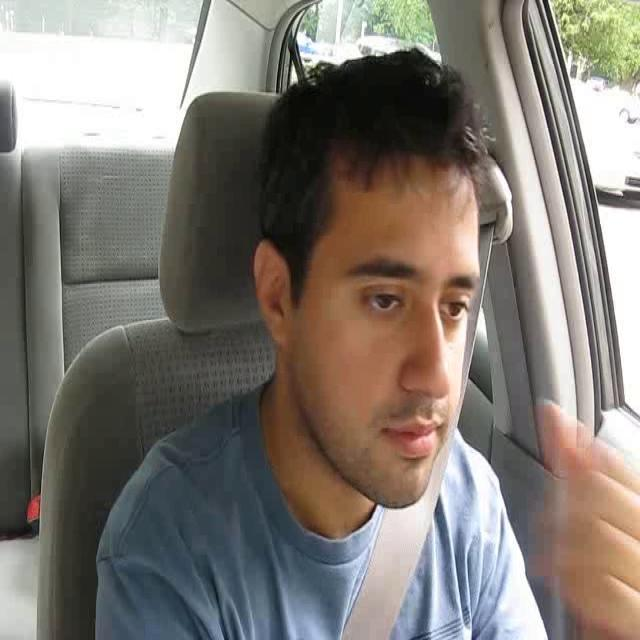close: (377, 411, 446, 461)
